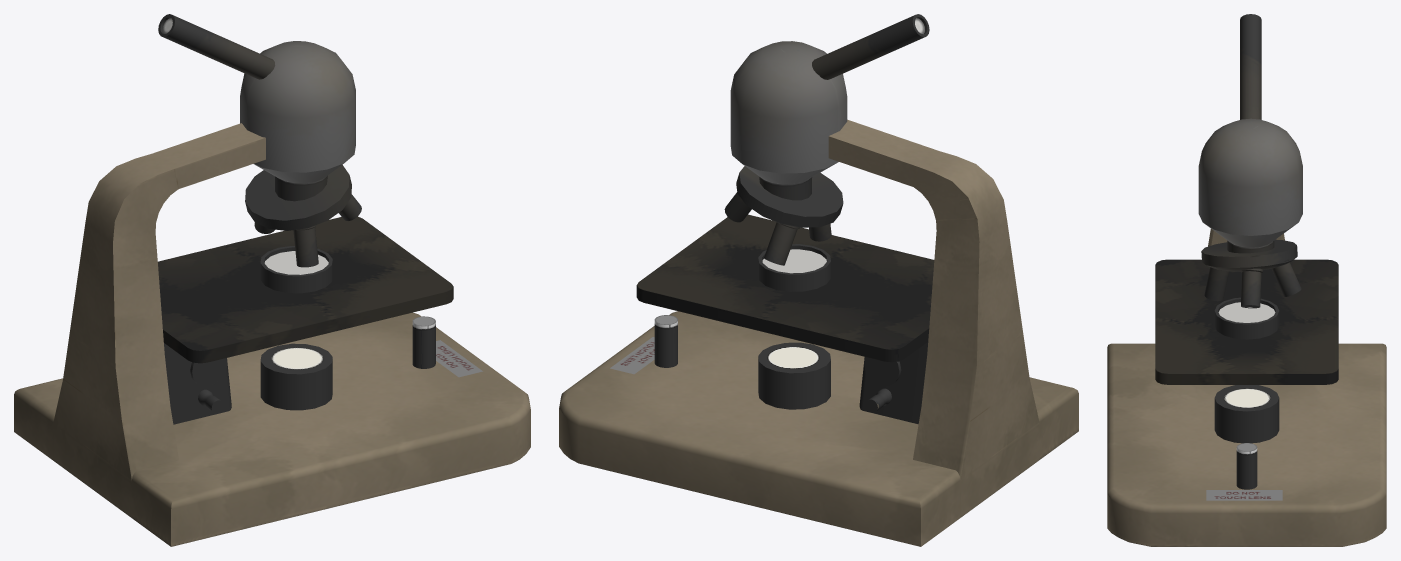
The model's file is Microscope.fbx.
The picture shows the model from 3 angles, left to right: view 1: azimuth 30°, elevation 25°; view 2: azimuth 150°, elevation 25°; view 3: azimuth 270°, elevation 25°; orthographic projection. The views are drawn at different scales.
Visible parts, largest first — view 1: Microscope; view 2: Microscope; view 3: Microscope.
Boxes of the visible parts, x1=… form: Microscope: x1=14, y1=14, x2=530, y2=546; Microscope: x1=559, y1=14, x2=1078, y2=546; Microscope: x1=1107, y1=14, x2=1386, y2=546.
Size of the model in its own units: 225 by 255 by 160.
1 material, 1 textured.
